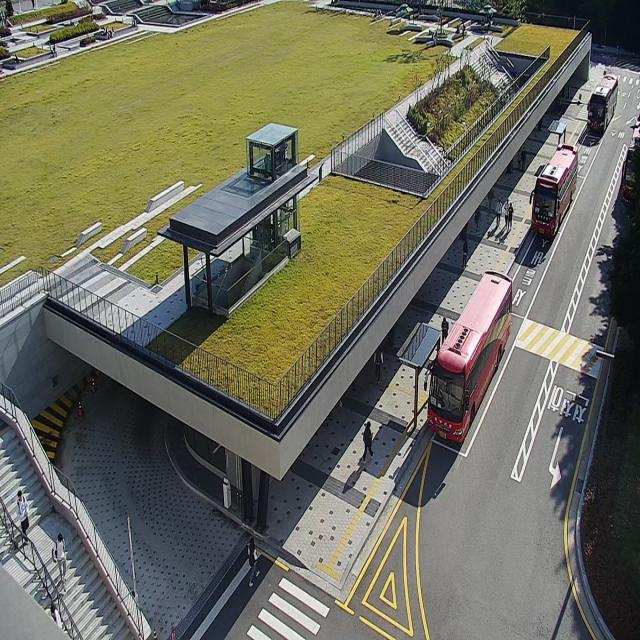queue: (415, 331, 439, 430)
